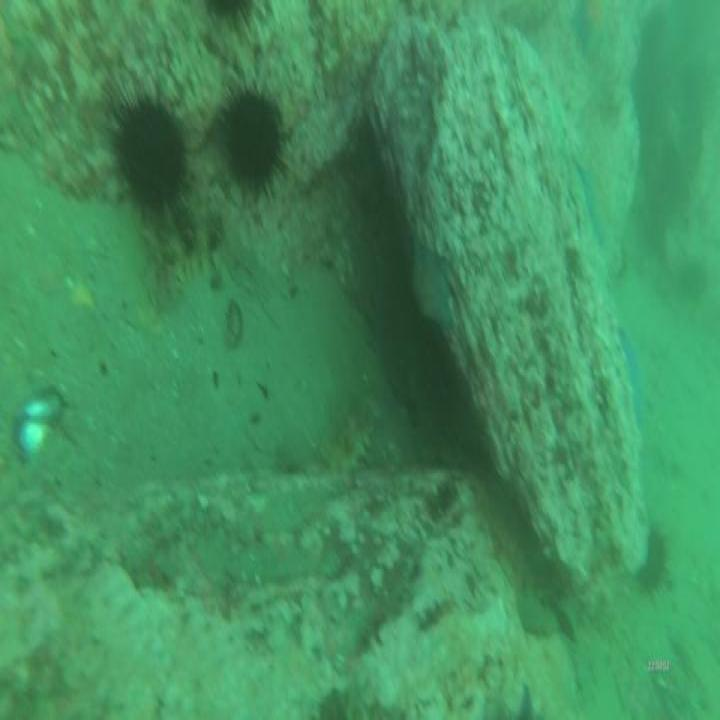echinus: (105, 82, 193, 206), (215, 78, 293, 210), (637, 523, 673, 606), (199, 0, 262, 34), (673, 252, 711, 304)
holothurian: (141, 197, 231, 288), (324, 382, 384, 471)
starfish: (408, 235, 456, 336), (617, 320, 648, 436), (576, 158, 608, 247), (568, 0, 606, 59)
